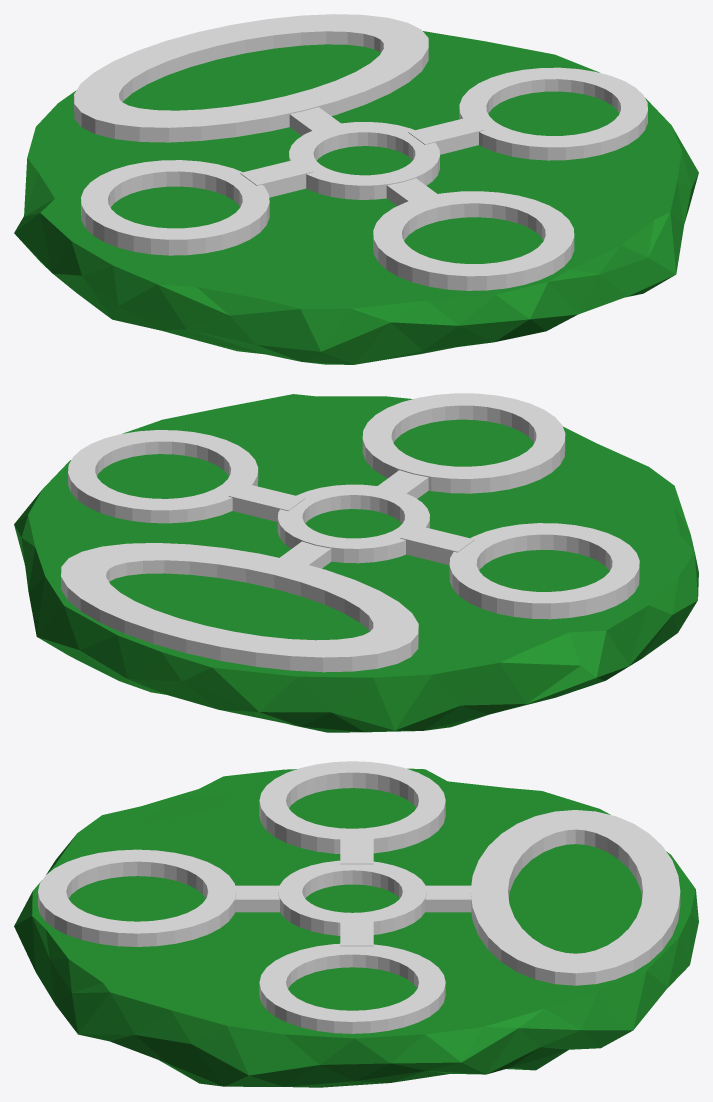
Rendered from walkway.fbx.
3 views of the same model, one above another, from view 1: azimuth 30°, elevation 25°; view 2: azimuth 150°, elevation 25°; view 3: azimuth 270°, elevation 25° (orthographic). The views are drawn at different scales.
Visible parts, largest first — view 1: Icosphere, Circle.004, Circle.003, Circle.001, Circle.002, Circle, Cube.001, Cube, Cube.003, Cube.002; view 2: Icosphere, Circle.004, Circle.003, Circle.001, Circle.002, Circle, Cube, Cube.001, Cube.003, Cube.002; view 3: Icosphere, Circle.004, Circle.003, Circle.001, Circle.002, Circle, Cube.003, Cube.002, Cube, Cube.001.
Part boxes in pixels (<box>): Icosphere: <box>14,31,698,364</box>; Circle.004: <box>74,14,428,142</box>; Circle.003: <box>373,191,574,290</box>; Circle.001: <box>81,160,269,255</box>; Circle.002: <box>459,67,647,160</box>; Circle: <box>289,122,439,199</box>; Cube.001: <box>240,159,313,197</box>; Cube: <box>408,117,484,154</box>; Cube.003: <box>289,107,340,135</box>; Cube.002: <box>386,178,436,205</box>; Icosphere: <box>14,394,698,732</box>; Circle.004: <box>61,543,418,672</box>; Circle.003: <box>362,393,565,493</box>; Circle.001: <box>449,523,639,619</box>; Circle.002: <box>68,430,258,523</box>; Circle: <box>277,484,429,563</box>; Cube: <box>228,483,305,521</box>; Cube.001: <box>400,525,474,565</box>; Cube.003: <box>280,541,331,568</box>; Cube.002: <box>378,470,428,498</box>; Icosphere: <box>14,768,698,1087</box>; Circle.004: <box>470,810,680,985</box>; Circle.003: <box>38,849,236,946</box>; Circle.001: <box>259,761,445,853</box>; Circle.002: <box>259,943,445,1033</box>; Circle: <box>278,860,426,935</box>; Cube.003: <box>425,885,471,912</box>; Cube.002: <box>235,885,279,912</box>; Cube: <box>340,917,373,946</box>; Cube.001: <box>340,836,373,864</box>.
Bounding box in the file's own units: 3993 × 560 × 4136.
